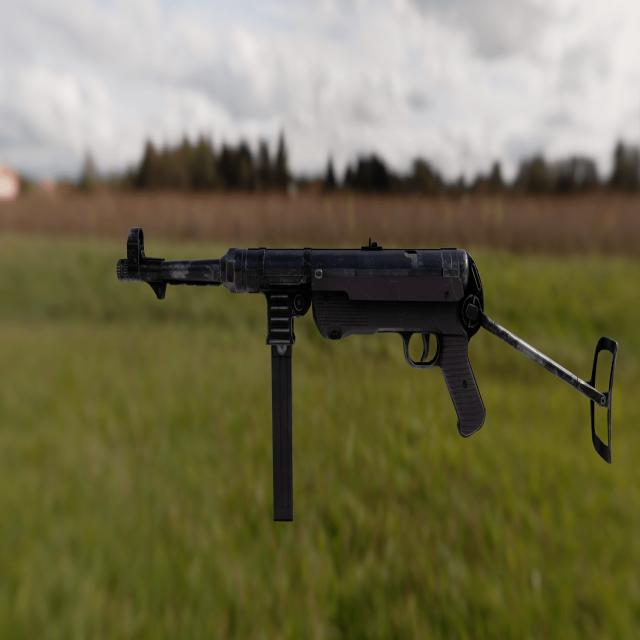SMG: (115, 230, 614, 523)
